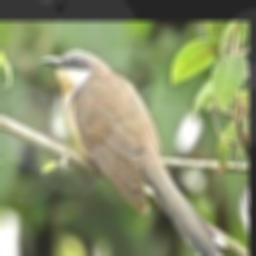Cuckoo: (40, 49, 226, 256)
